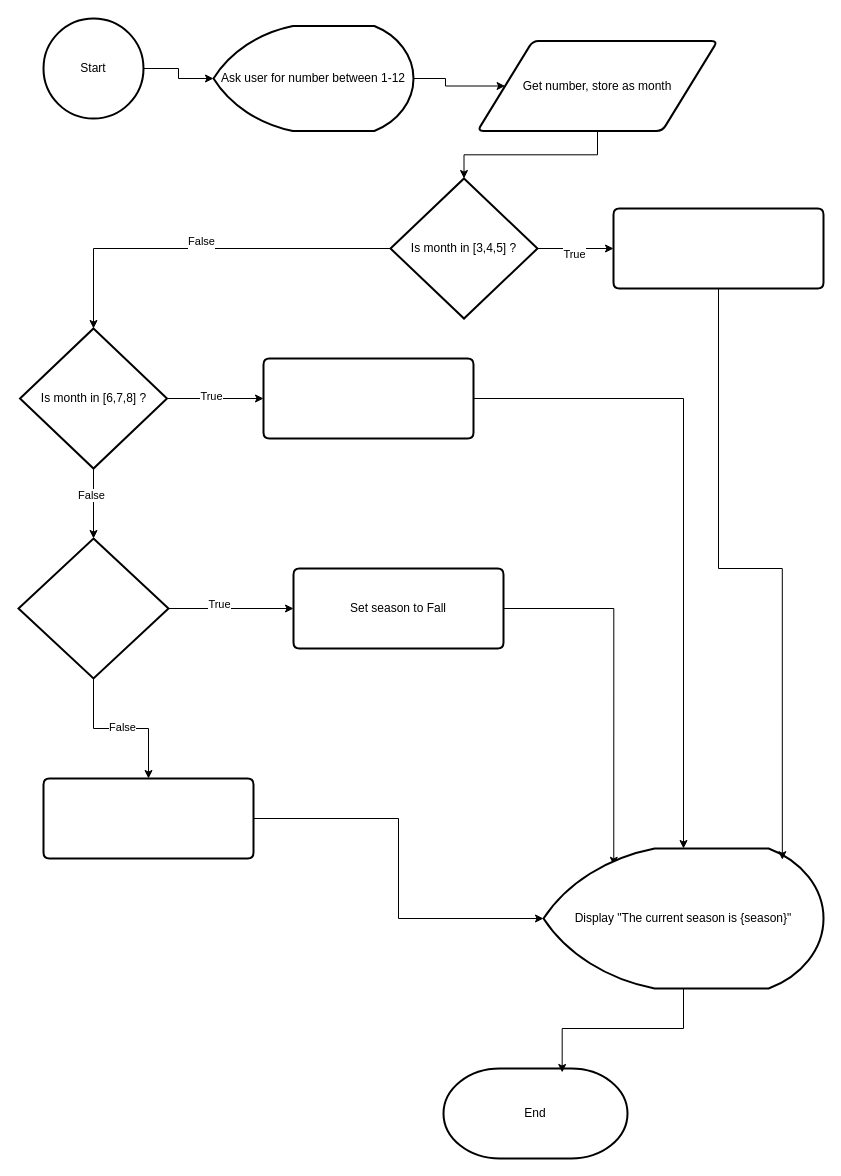
Some shapes in this 841 by 1176 pixel diagram are drawn without their labels. The shapes that lost their labels are listed below. From the top down, each one's centre as x and y in pixels, then its label:
At (718,248): "Set season to Spring".
At (368,398): "Set season to Summer".
At (93,608): "Is month in [9,10,11] ?".
At (148,818): "Set season to Winter".
